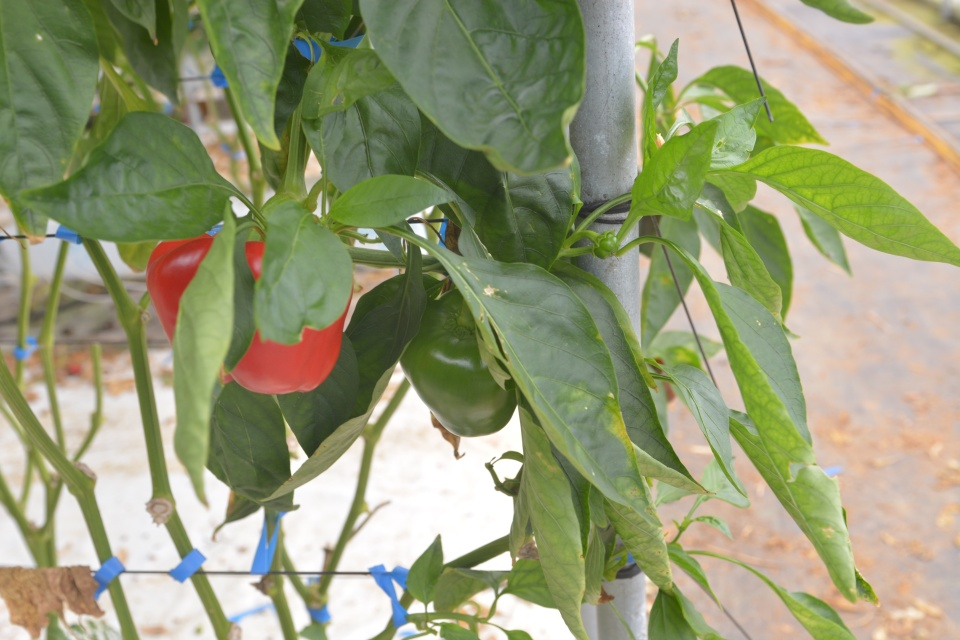fruit: (229, 238, 354, 395), (397, 284, 518, 437), (144, 230, 234, 386)
immature: (590, 229, 620, 263)
pedicle: (442, 306, 482, 340)
